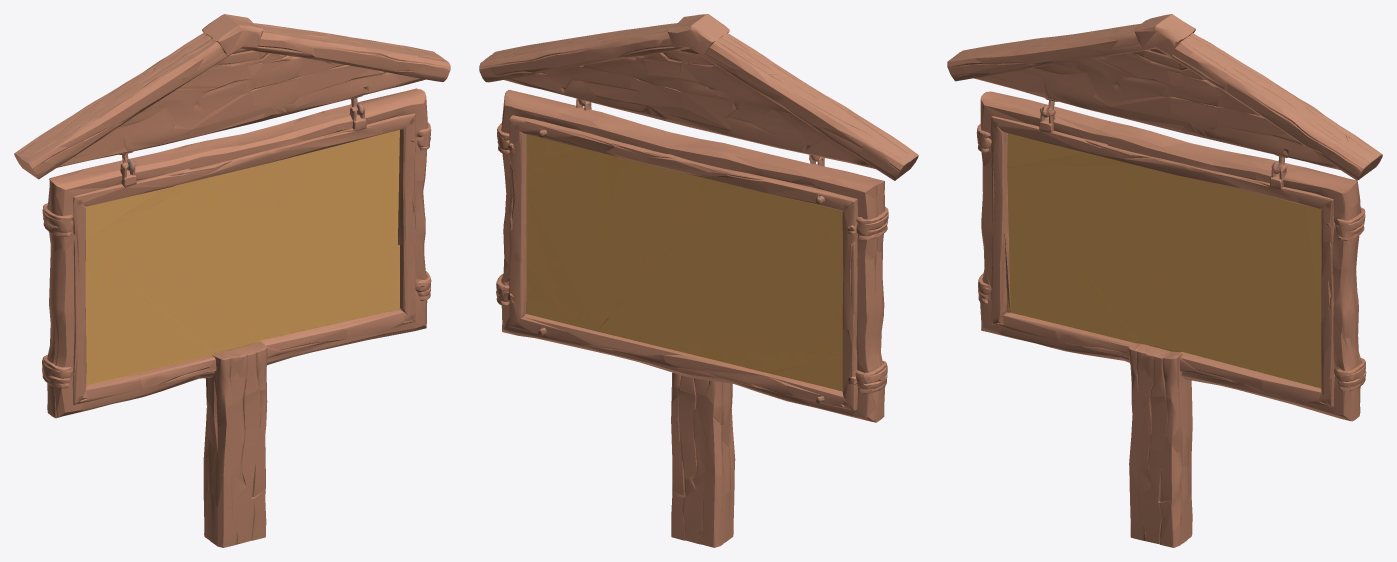
The model's file is archive.glb.
3 renders of one model, left to right at view 1: azimuth 30°, elevation 25°; view 2: azimuth 150°, elevation 25°; view 3: azimuth 330°, elevation 25°, orthographic.
Size of the model in its own units: 1.63 by 1.9 by 0.1953.
1 material, 1 textured.
